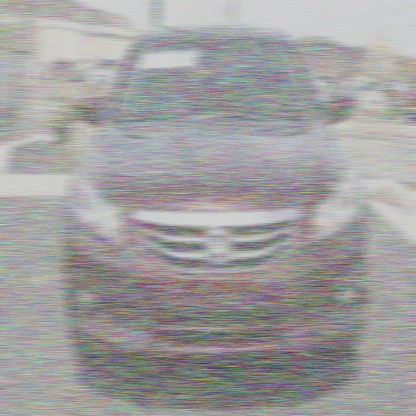Vehicle: (64, 29, 372, 388)
